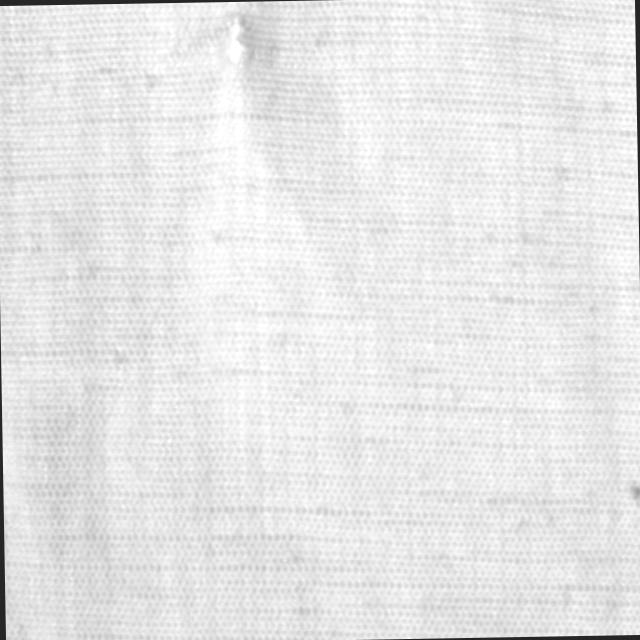hole: (218, 10, 253, 68)
